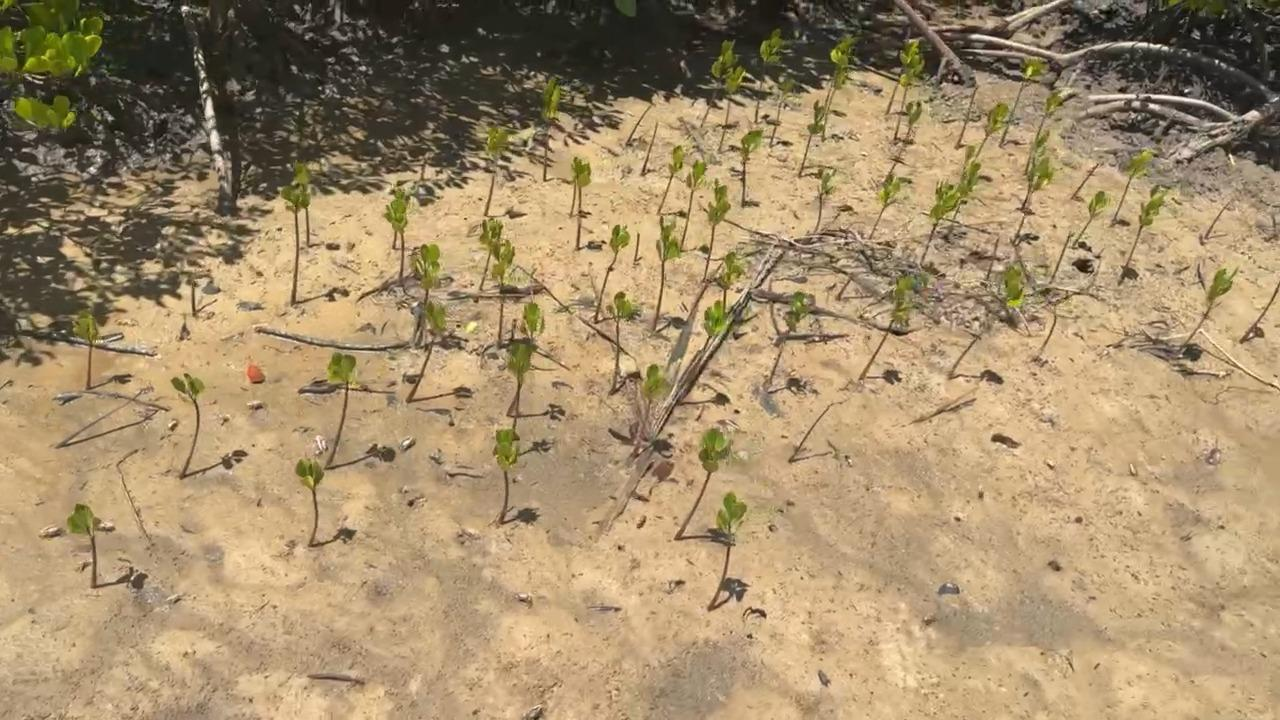Tree: (949, 270, 1024, 375), (859, 272, 929, 380), (673, 427, 734, 540), (706, 492, 746, 610), (999, 60, 1048, 148), (406, 301, 446, 403), (1189, 266, 1240, 340), (171, 372, 205, 479), (594, 224, 630, 324), (631, 363, 670, 455), (696, 179, 731, 281), (1013, 157, 1054, 244), (607, 291, 641, 395), (326, 352, 356, 468), (768, 291, 807, 380), (1128, 184, 1168, 266), (920, 180, 957, 266), (1025, 89, 1062, 175), (699, 41, 735, 128), (282, 185, 308, 305), (653, 216, 680, 330), (755, 28, 787, 123), (1112, 151, 1154, 220), (67, 504, 100, 587), (894, 52, 925, 140), (869, 174, 911, 238), (493, 428, 521, 523), (729, 129, 763, 206), (1240, 277, 1280, 342), (296, 458, 325, 547), (788, 405, 833, 461), (886, 39, 919, 115), (680, 160, 707, 250), (718, 66, 745, 151), (823, 36, 856, 105), (483, 125, 508, 214), (506, 341, 531, 429), (1073, 191, 1110, 249), (952, 146, 981, 220), (798, 101, 826, 177), (493, 240, 514, 341), (383, 199, 408, 278), (656, 146, 684, 216), (410, 245, 442, 306), (771, 71, 797, 146), (570, 157, 591, 249), (75, 306, 98, 389), (715, 252, 745, 310), (540, 77, 557, 179), (976, 103, 1008, 157), (477, 217, 500, 291), (291, 163, 311, 245), (827, 48, 849, 112), (815, 170, 836, 233), (957, 85, 978, 146), (703, 300, 727, 351), (1050, 231, 1073, 281), (894, 102, 922, 143), (626, 103, 654, 142), (1070, 163, 1100, 199), (1206, 199, 1230, 238), (641, 122, 658, 175), (390, 187, 404, 247), (986, 239, 1001, 278), (568, 165, 579, 217), (188, 276, 199, 314), (838, 273, 854, 299)
